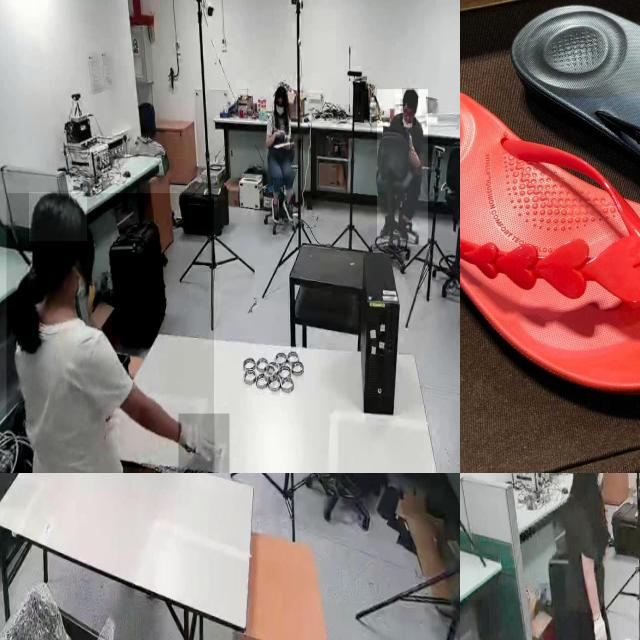Sandals: (460, 69, 640, 418), (497, 0, 640, 283)
face_mask: (274, 101, 286, 115)
face_nomask: (400, 99, 416, 125)
hand_glove: (178, 413, 229, 473), (592, 613, 610, 640)
head_nohelmet: (29, 192, 87, 241), (402, 89, 418, 102), (273, 86, 287, 98)
person: (6, 193, 214, 473), (377, 89, 429, 247), (566, 473, 614, 640), (266, 85, 298, 228)
shoes: (282, 196, 295, 223), (270, 194, 280, 224)
